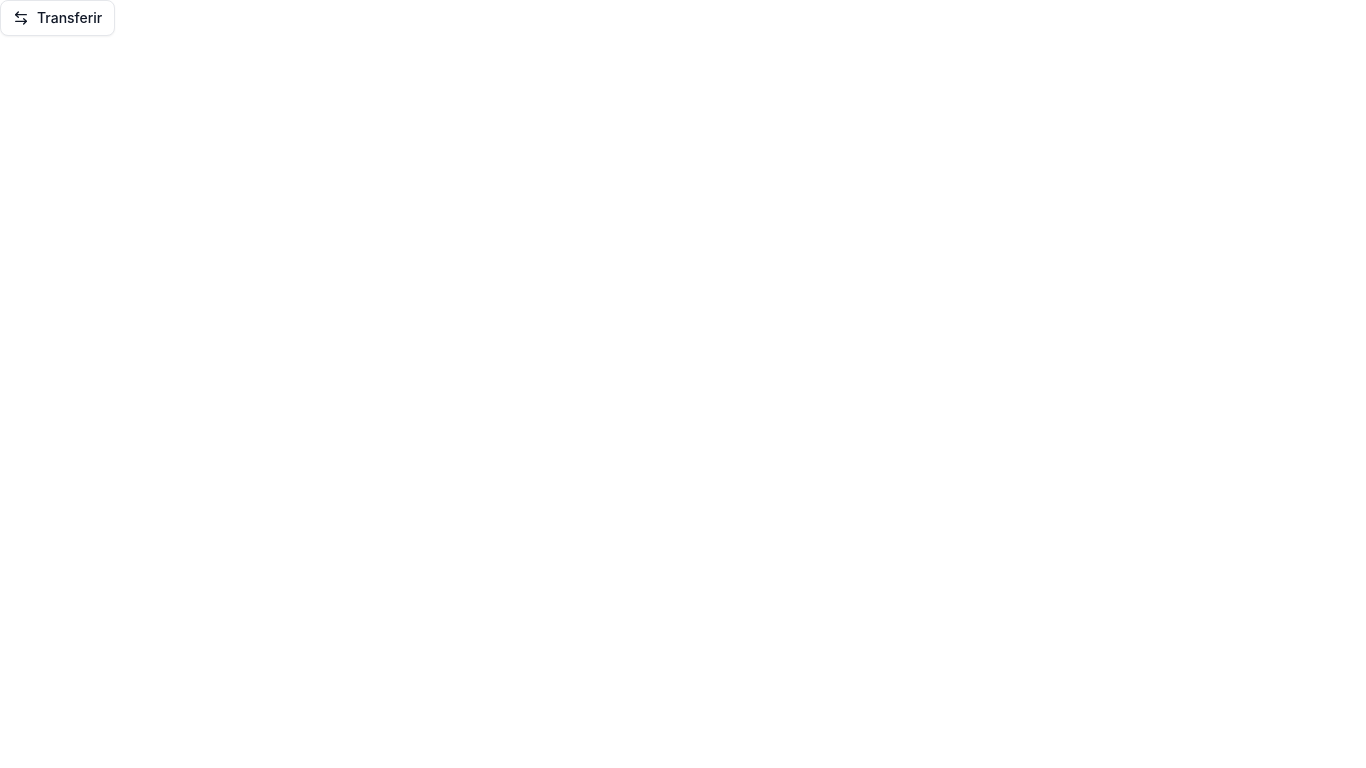
Test: TransferButton — opciones principales › muestra las tres opciones de destino al abrir el menú
Click the button "Transferir" at (58, 18), box [0,0,115,36]
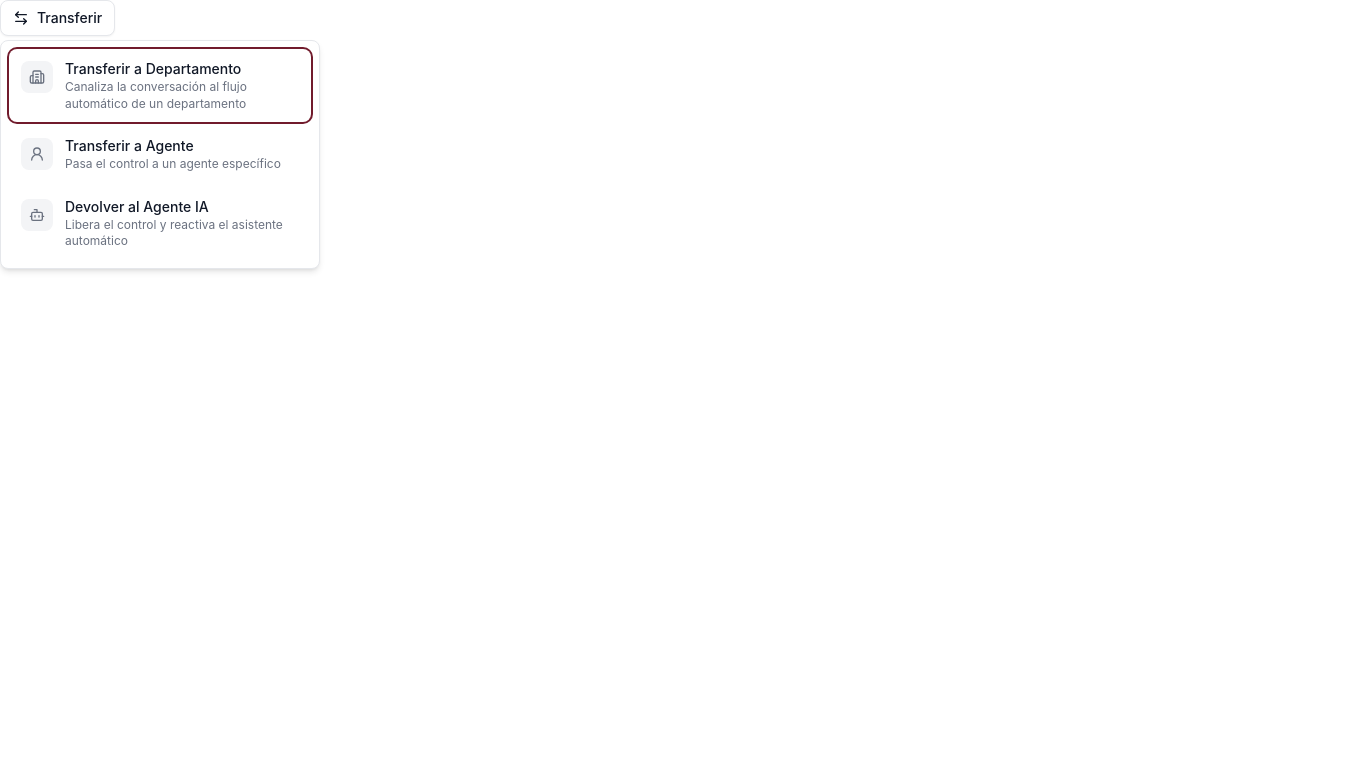
expect the text "Transferir a Departamento" is shown: met, box [65,60,241,77]
expect the text "Transferir a Agente" is shown: met, box [65,137,194,154]
expect the text "Devolver al Agente IA" is shown: met, box [65,198,209,214]
